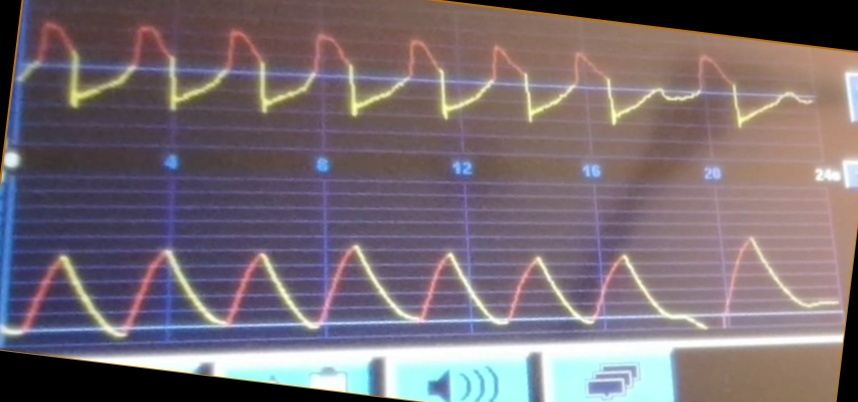Ineffective_effort Flow: (21, 18, 815, 136)
Ineffective_effort Volume: (15, 227, 838, 340)
